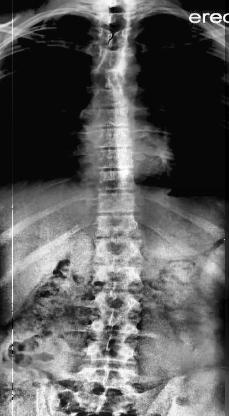Vertebrae: (83, 339, 141, 365), (88, 45, 140, 73), (95, 266, 145, 294), (92, 238, 148, 263), (91, 213, 145, 237), (90, 126, 139, 150), (87, 29, 143, 50), (87, 319, 139, 341), (93, 147, 136, 173), (95, 190, 141, 214), (92, 296, 142, 318), (88, 85, 138, 107), (90, 64, 140, 86), (89, 104, 136, 126), (97, 168, 137, 192)
